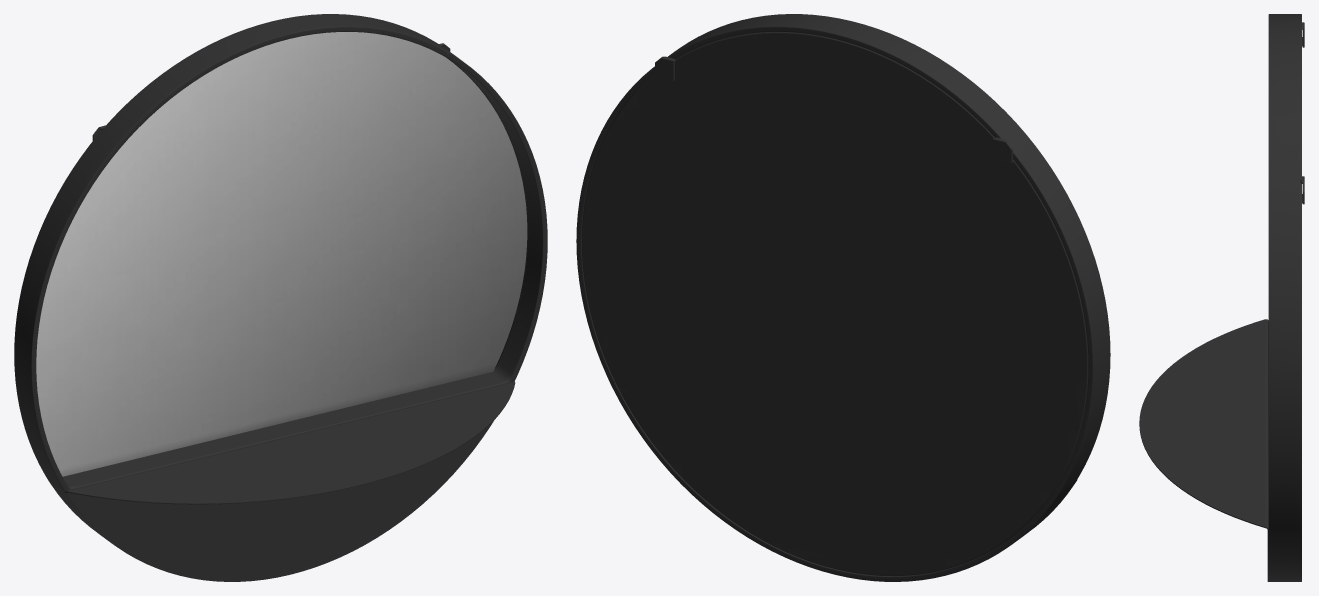
The model's file is abo-B084HTZ8PW.glb.
The picture shows the model from 3 angles, left to right: view 1: azimuth 30°, elevation 25°; view 2: azimuth 150°, elevation 25°; view 3: azimuth 270°, elevation 25°; orthographic projection. The views are drawn at different scales.
Size of the model in its own units: 0.457 by 0.457 by 0.133.
Materials: 1 (1 with a texture image).
